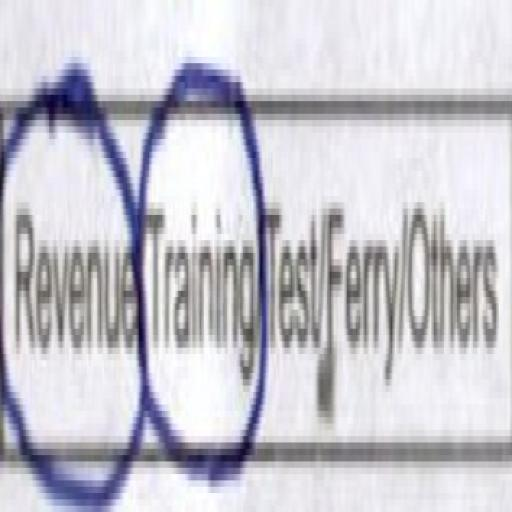check: (0, 15, 137, 512), (138, 7, 258, 512)
